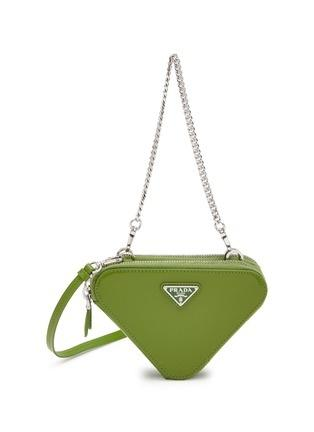PRADA: (163, 286, 199, 307)
